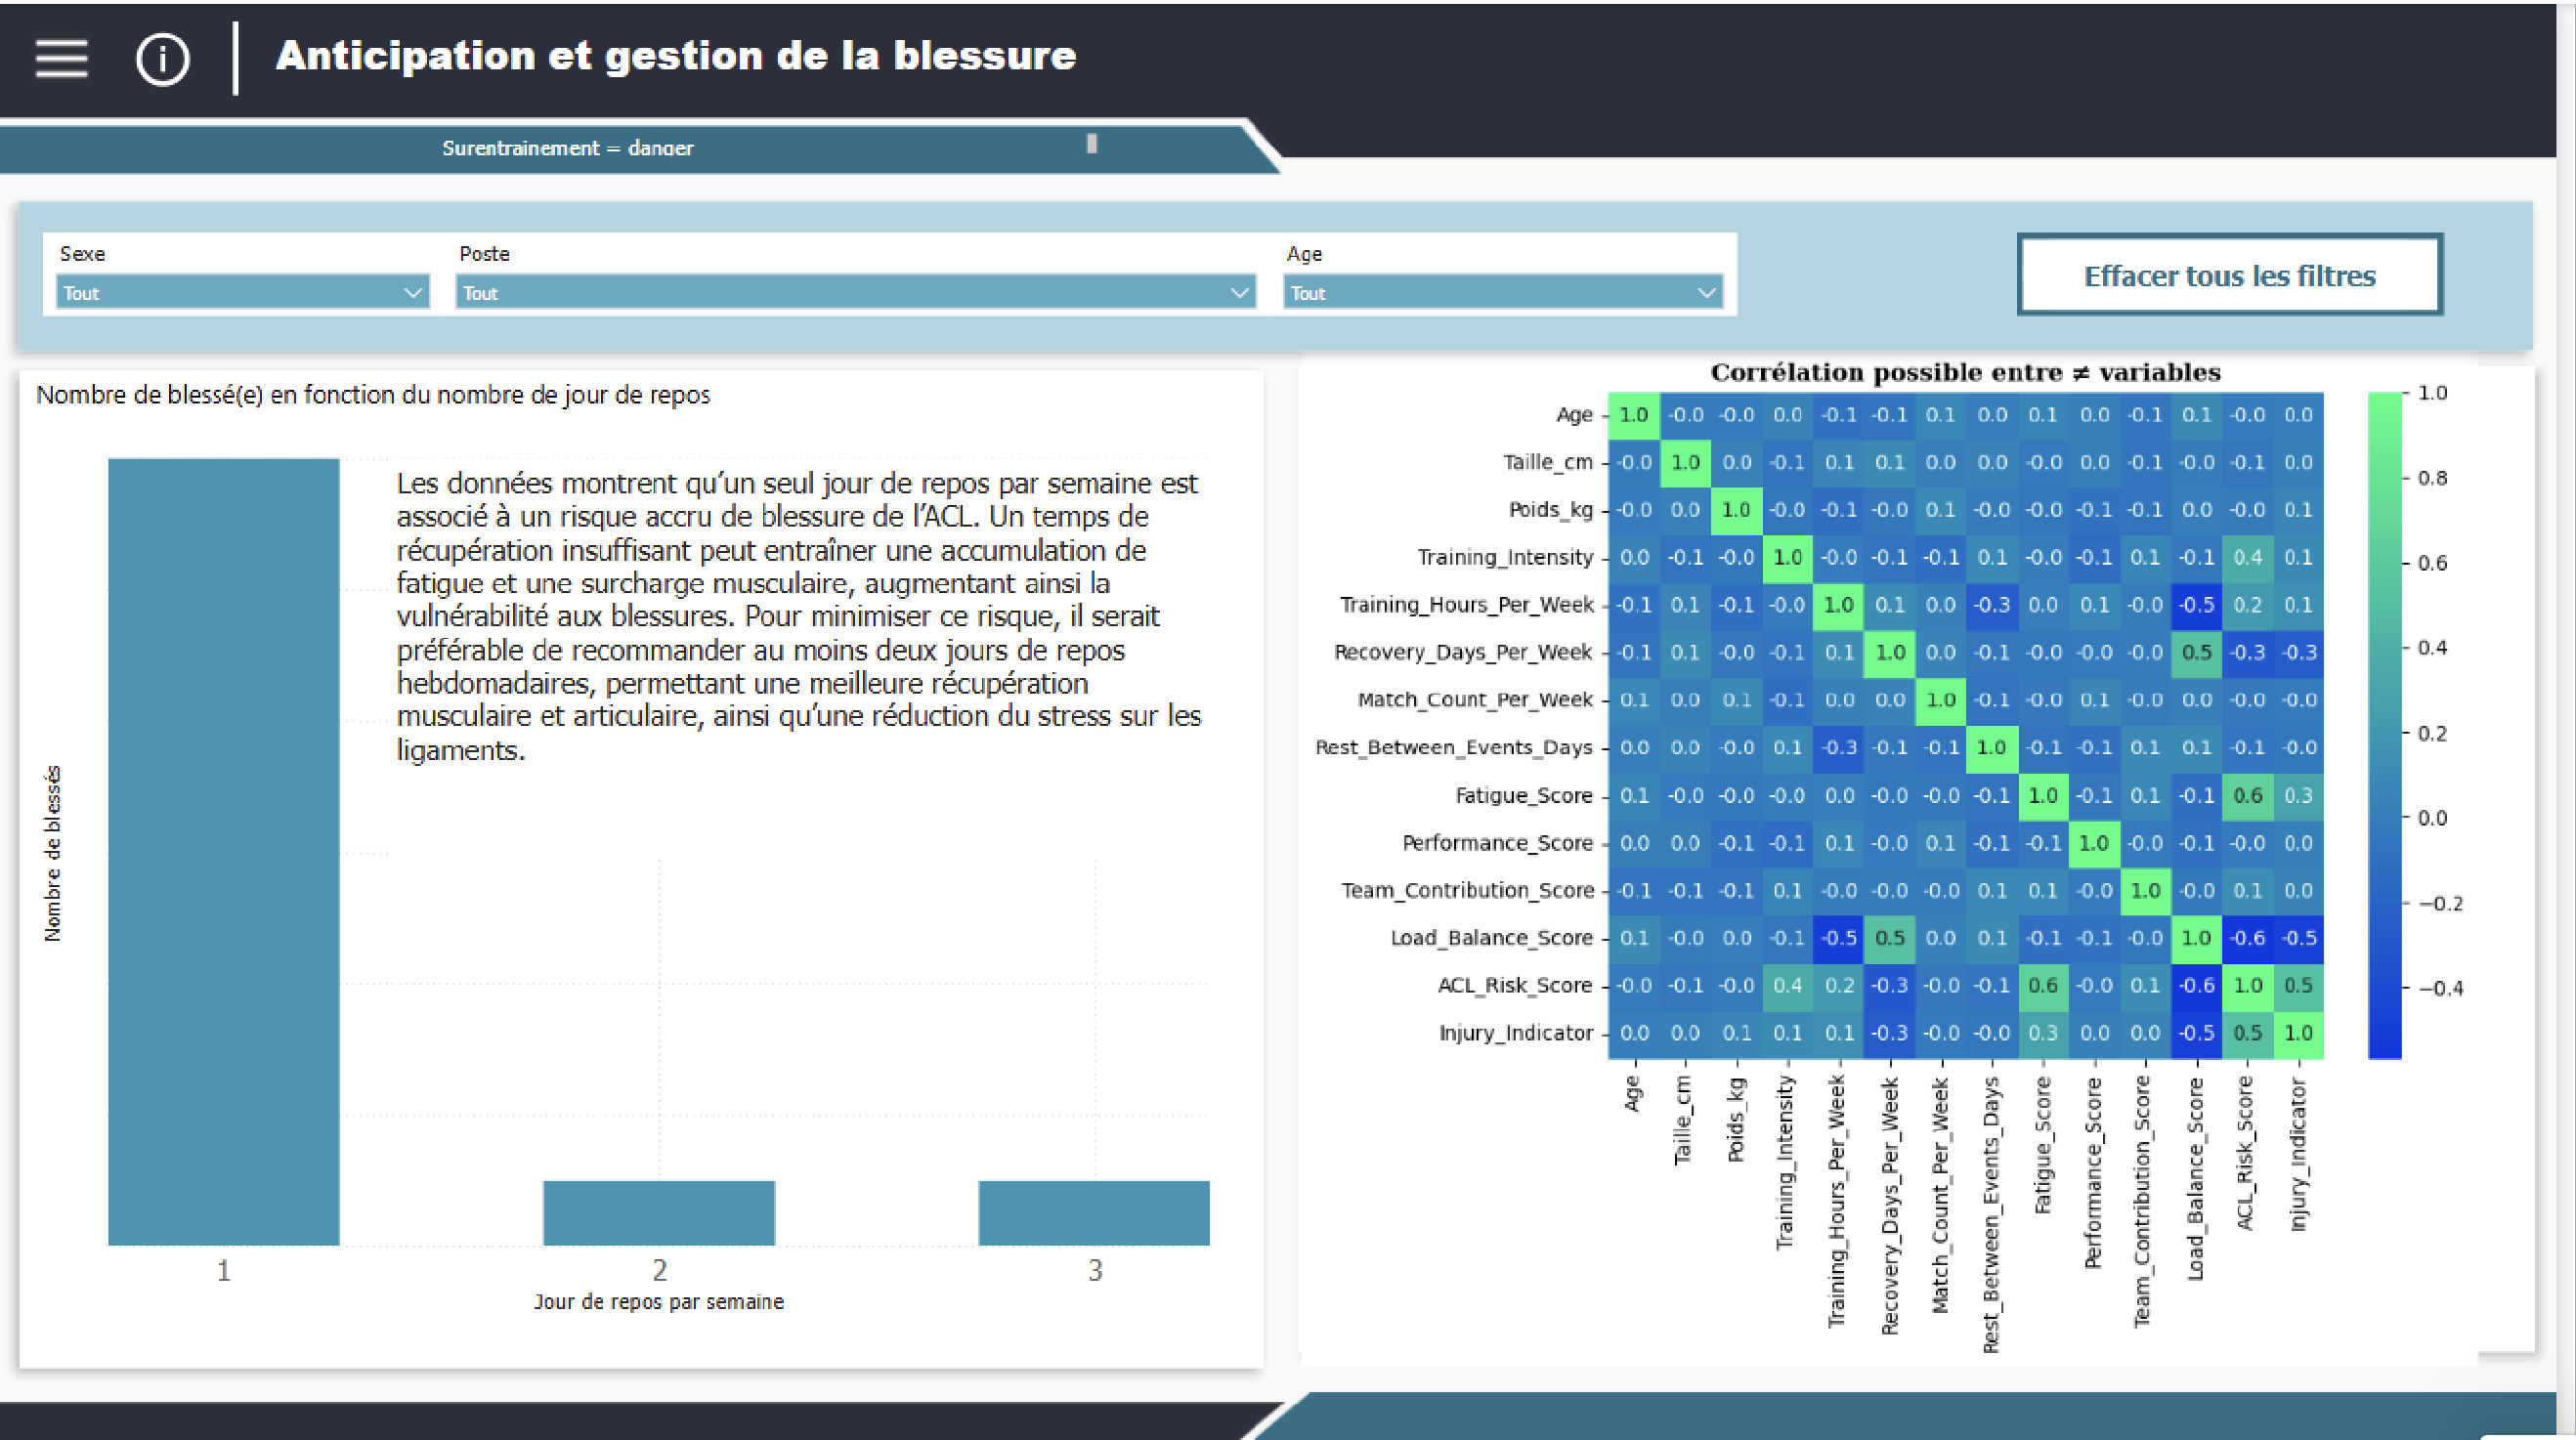

This screenshot's page, from the dashboard's own definition file:
{"tool":"powerbi","page":{"name":"Conclusion et remédiation","canvas":[1920,1080],"ordinal":2},"visuals":[{"type":"shape","box":[2,134.4,1916,139.7],"z":0,"group":"g2"},{"type":"group","id":"g1","title":"Group 1","box":[963.2,242,955.2,796],"z":0},{"type":"shape","title":"Sales","box":[963.2,258.8,954.4,766.1],"z":0,"group":"g1"},{"type":"shape","title":"Timeline","box":[2.7,263,960.3,775.4],"z":0,"group":"g3"},{"type":"textbox","title":"Anticipation et gestion de la blessure","box":[203.3,16.9,822.6,47.1],"z":1000},{"type":"actionButton","box":[97.9,13.2,54.6,56.5],"z":2000},{"type":"shape","title":"Vertical","box":[152.5,13.2,50.8,56.5],"z":3000},{"type":"image","box":[16.9,13.2,60.2,56.5],"z":4000},{"type":"group","id":"g2","title":"KPI Cards 2","box":[2,134.4,1916,139.7],"z":5000},{"type":"group","id":"g3","title":"MAp","box":[2.7,263,960.3,775.4],"z":6000},{"type":"group","id":"g4","title":"Filter","box":[0,0,1920.6,1080],"z":7000},{"type":"columnChart","fields":{"Category":["collegiate_athlete_injury_dataset.Recovery_Days_Per_Week"],"Y":["collegiate_athlete_injury_dataset.Nombre de blessés"]},"box":[28.2,327.5,886.6,660.7],"z":8000},{"type":"textbox","box":[32.6,92.4,797,27.2],"z":9000},{"type":"slicer","fields":{"Values":["collegiate_athlete_injury_dataset.Gender"]},"box":[32.6,172.1,300.7,63.4],"z":11000},{"type":"slicer","fields":{"Values":["collegiate_athlete_injury_dataset.Poste"]},"box":[333.1,172.3,621.7,63.3],"z":12000},{"type":"slicer","fields":{"Values":["collegiate_athlete_injury_dataset.Age"]},"box":[954.8,172.3,351.2,63.3],"z":13000},{"type":"actionButton","box":[1516.1,172.1,320.6,63.4],"z":14000},{"type":"image","box":[972.8,242,894.1,796.2],"z":14001,"group":"g1"},{"type":"textbox","box":[294.5,342.3,620.9,299.3],"z":14001}]}

Visuals, with their boxes on the page's 1920x1080 design canvas (x1, y1, x2, y2). These are canvas units, not pixel positions in the 2576x1440 screenshot, which may show the page scaled, cropped or inside an application window:
shape: crop(2, 134, 1918, 274)
"Group 1" group: crop(963, 242, 1918, 1038)
"Sales" shape: crop(963, 259, 1918, 1025)
"Timeline" shape: crop(3, 263, 963, 1038)
"Anticipation et gestion de la blessure" textbox: crop(203, 17, 1026, 64)
actionButton: crop(98, 13, 152, 70)
"Vertical" shape: crop(152, 13, 203, 70)
image: crop(17, 13, 77, 70)
"KPI Cards 2" group: crop(2, 134, 1918, 274)
"MAp" group: crop(3, 263, 963, 1038)
"Filter" group: crop(0, 0, 1921, 1080)
columnChart - collegiate_athlete_injury_dataset.Recovery_Days_Per_Week x collegiate_athlete_injury_dataset.Nombre de blessés: crop(28, 328, 915, 988)
textbox: crop(33, 92, 830, 120)
slicer - collegiate_athlete_injury_dataset.Gender: crop(33, 172, 333, 236)
slicer - collegiate_athlete_injury_dataset.Poste: crop(333, 172, 955, 236)
slicer - collegiate_athlete_injury_dataset.Age: crop(955, 172, 1306, 236)
actionButton: crop(1516, 172, 1837, 236)
image: crop(973, 242, 1867, 1038)
textbox: crop(294, 342, 915, 642)
